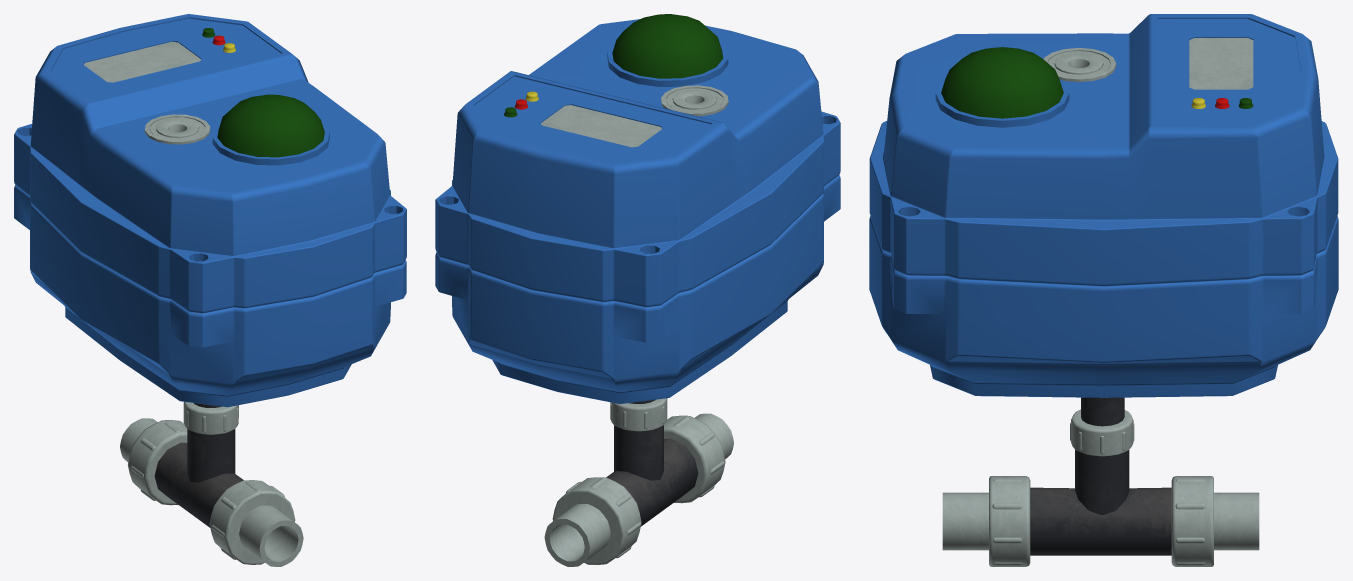
Rendered from EQ_电动阀_2.fbx.
3 views of the same model, side by side, from view 1: azimuth 30°, elevation 25°; view 2: azimuth 150°, elevation 25°; view 3: azimuth 270°, elevation 25° (orthographic). The views are drawn at different scales.
Parts seen in each view (by area): view 1: EQ_电动阀_零件066, EQ_电动阀_零件012, EQ_电动阀_接口018, EQ_电动阀_信号灯023, EQ_电动阀_管子011, EQ_电动阀_接口017, EQ_电动阀_接口016; view 2: EQ_电动阀_零件066, EQ_电动阀_零件012, EQ_电动阀_接口017, EQ_电动阀_信号灯023, EQ_电动阀_管子011, EQ_电动阀_接口018, EQ_电动阀_接口016; view 3: EQ_电动阀_零件066, EQ_电动阀_零件012, EQ_电动阀_管子011, EQ_电动阀_信号灯023, EQ_电动阀_接口017, EQ_电动阀_接口018, EQ_电动阀_接口016, EQ_电动阀_管子010.
Boxes of the visible parts, <box> form: EQ_电动阀_零件066: <box>14,14,406,313</box>; EQ_电动阀_零件012: <box>14,185,406,407</box>; EQ_电动阀_接口018: <box>209,480,303,566</box>; EQ_电动阀_信号灯023: <box>217,94,324,157</box>; EQ_电动阀_管子011: <box>154,429,243,527</box>; EQ_电动阀_接口017: <box>120,418,187,505</box>; EQ_电动阀_接口016: <box>183,402,238,434</box>; EQ_电动阀_零件066: <box>435,19,840,307</box>; EQ_电动阀_零件012: <box>435,175,840,403</box>; EQ_电动阀_接口017: <box>544,477,641,566</box>; EQ_电动阀_信号灯023: <box>612,14,722,78</box>; EQ_电动阀_管子011: <box>606,425,698,526</box>; EQ_电动阀_接口018: <box>664,413,733,503</box>; EQ_电动阀_接口016: <box>610,398,667,431</box>; EQ_电动阀_零件066: <box>869,14,1338,286</box>; EQ_电动阀_零件012: <box>869,216,1338,397</box>; EQ_电动阀_管子011: <box>1030,450,1171,555</box>; EQ_电动阀_信号灯023: <box>941,47,1063,118</box>; EQ_电动阀_接口017: <box>1171,476,1259,566</box>; EQ_电动阀_接口018: <box>942,476,1030,566</box>; EQ_电动阀_接口016: <box>1070,409,1134,456</box>; EQ_电动阀_管子010: <box>1081,397,1124,426</box>.
Bounding box in the file's own units: 112 × 188 × 154.
